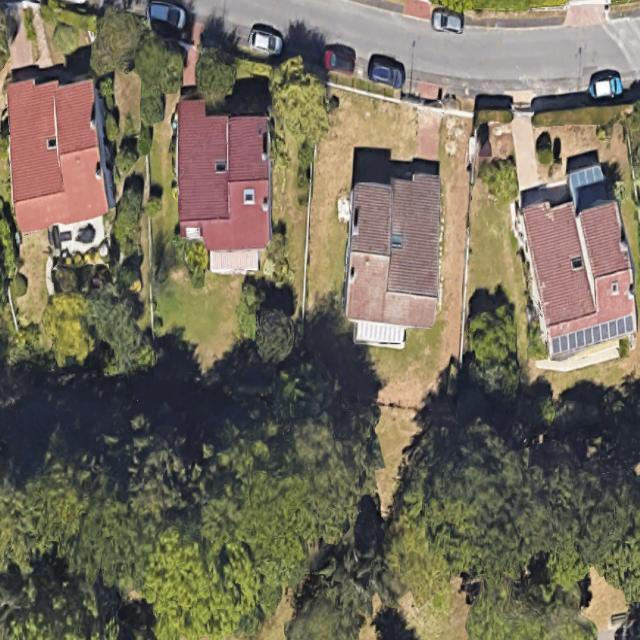maison: (504, 163, 640, 364), (0, 70, 116, 234), (341, 169, 445, 349), (175, 98, 272, 273)
